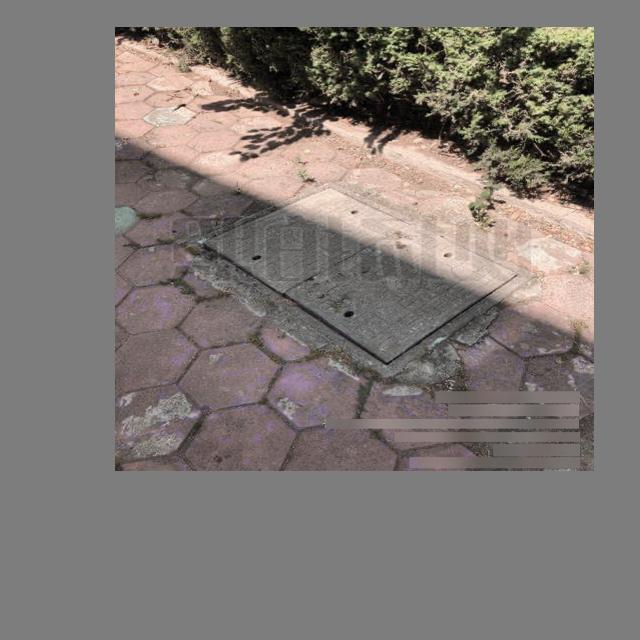good: (185, 182, 537, 380)
